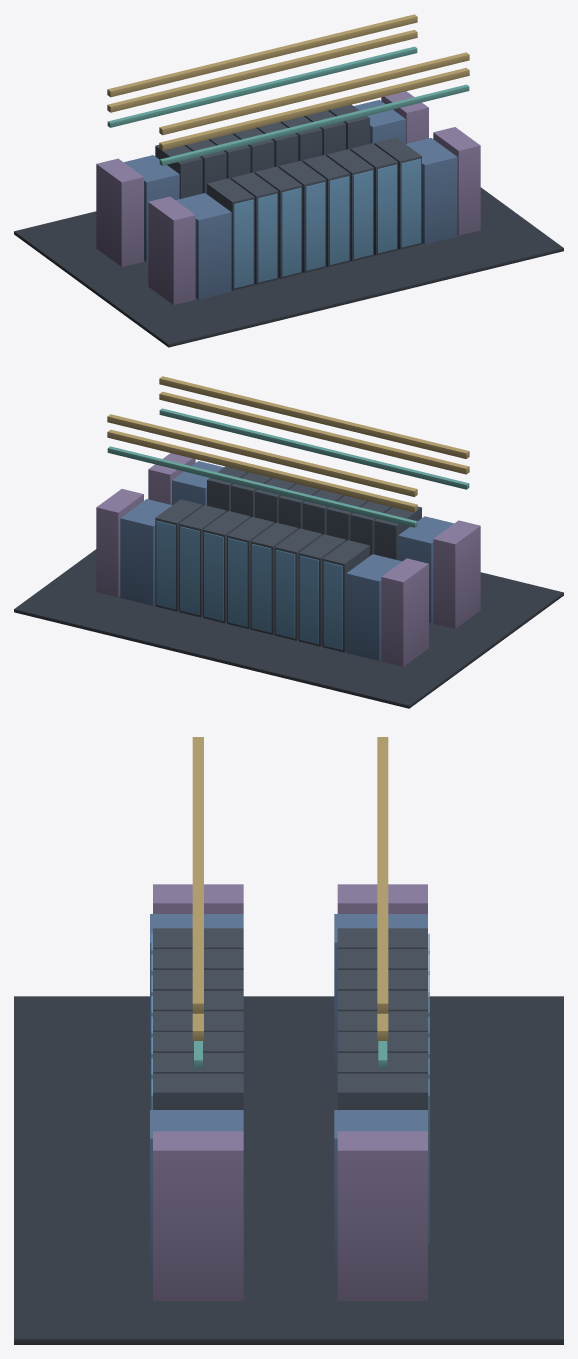
The model's file is gb200-nvl72.glb.
The picture shows the model from 3 angles, top to bottom: view 1: azimuth 30°, elevation 25°; view 2: azimuth 150°, elevation 25°; view 3: azimuth 270°, elevation 25°; orthographic projection. The views are drawn at different scales.
Parts seen in each view (by area): view 1: floor, fabric-A1, fabric-B1, cdu-A1, cdu-A2, busway-A2, busway-B2, busway-A1, busway-B1, fabric-A2, tcs-main-B, tcs-main-A (+27 smaller); view 2: floor, fabric-A1, fabric-B1, cdu-B1, cdu-B2, busway-A1, busway-B2, busway-A2, busway-B1, fabric-B2, tcs-main-B, tcs-main-A (+27 smaller); view 3: floor, fabric-A2, fabric-B2, rack-A8, rack-B8, busway-A2, busway-B2, cdu-B2, cdu-A2, fabric-B1, fabric-A1, cdu-B1 (+15 smaller).
Boxes of the visible parts, x1,y1,x2,y2 form: floor: [14, 187, 563, 347]; fabric-A1: [148, 196, 195, 304]; fabric-B1: [96, 158, 143, 266]; cdu-A1: [175, 193, 231, 299]; cdu-A2: [406, 138, 457, 244]; busway-A2: [159, 52, 469, 135]; busway-B2: [107, 14, 417, 97]; busway-A1: [159, 67, 469, 150]; busway-B1: [107, 30, 417, 112]; fabric-A2: [433, 127, 480, 235]; tcs-main-B: [107, 46, 417, 127]; tcs-main-A: [159, 84, 469, 165]; floor: [14, 549, 563, 708]; fabric-A1: [433, 520, 480, 628]; fabric-B1: [381, 558, 428, 666]; cdu-B1: [346, 554, 401, 660]; cdu-B2: [120, 499, 171, 605]; busway-A1: [159, 391, 469, 474]; busway-B2: [107, 414, 417, 496]; busway-A2: [159, 376, 469, 458]; busway-B1: [107, 429, 417, 512]; fabric-B2: [96, 489, 143, 597]; tcs-main-B: [107, 446, 417, 527]; tcs-main-A: [159, 408, 469, 489]; floor: [14, 996, 563, 1344]; fabric-A2: [153, 1131, 243, 1300]; fabric-B2: [337, 1131, 427, 1300]; rack-A8: [153, 1073, 243, 1109]; rack-B8: [337, 1073, 427, 1109]; busway-A2: [192, 737, 203, 1013]; busway-B2: [377, 737, 388, 1013]; cdu-B2: [334, 1110, 427, 1280]; cdu-A2: [150, 1110, 243, 1280]; fabric-B1: [337, 884, 427, 913]; fabric-A1: [153, 884, 243, 913]; cdu-B1: [334, 914, 427, 1084].
Bounding box in the file's own units: 10.75 × 4.43 × 7.29.
